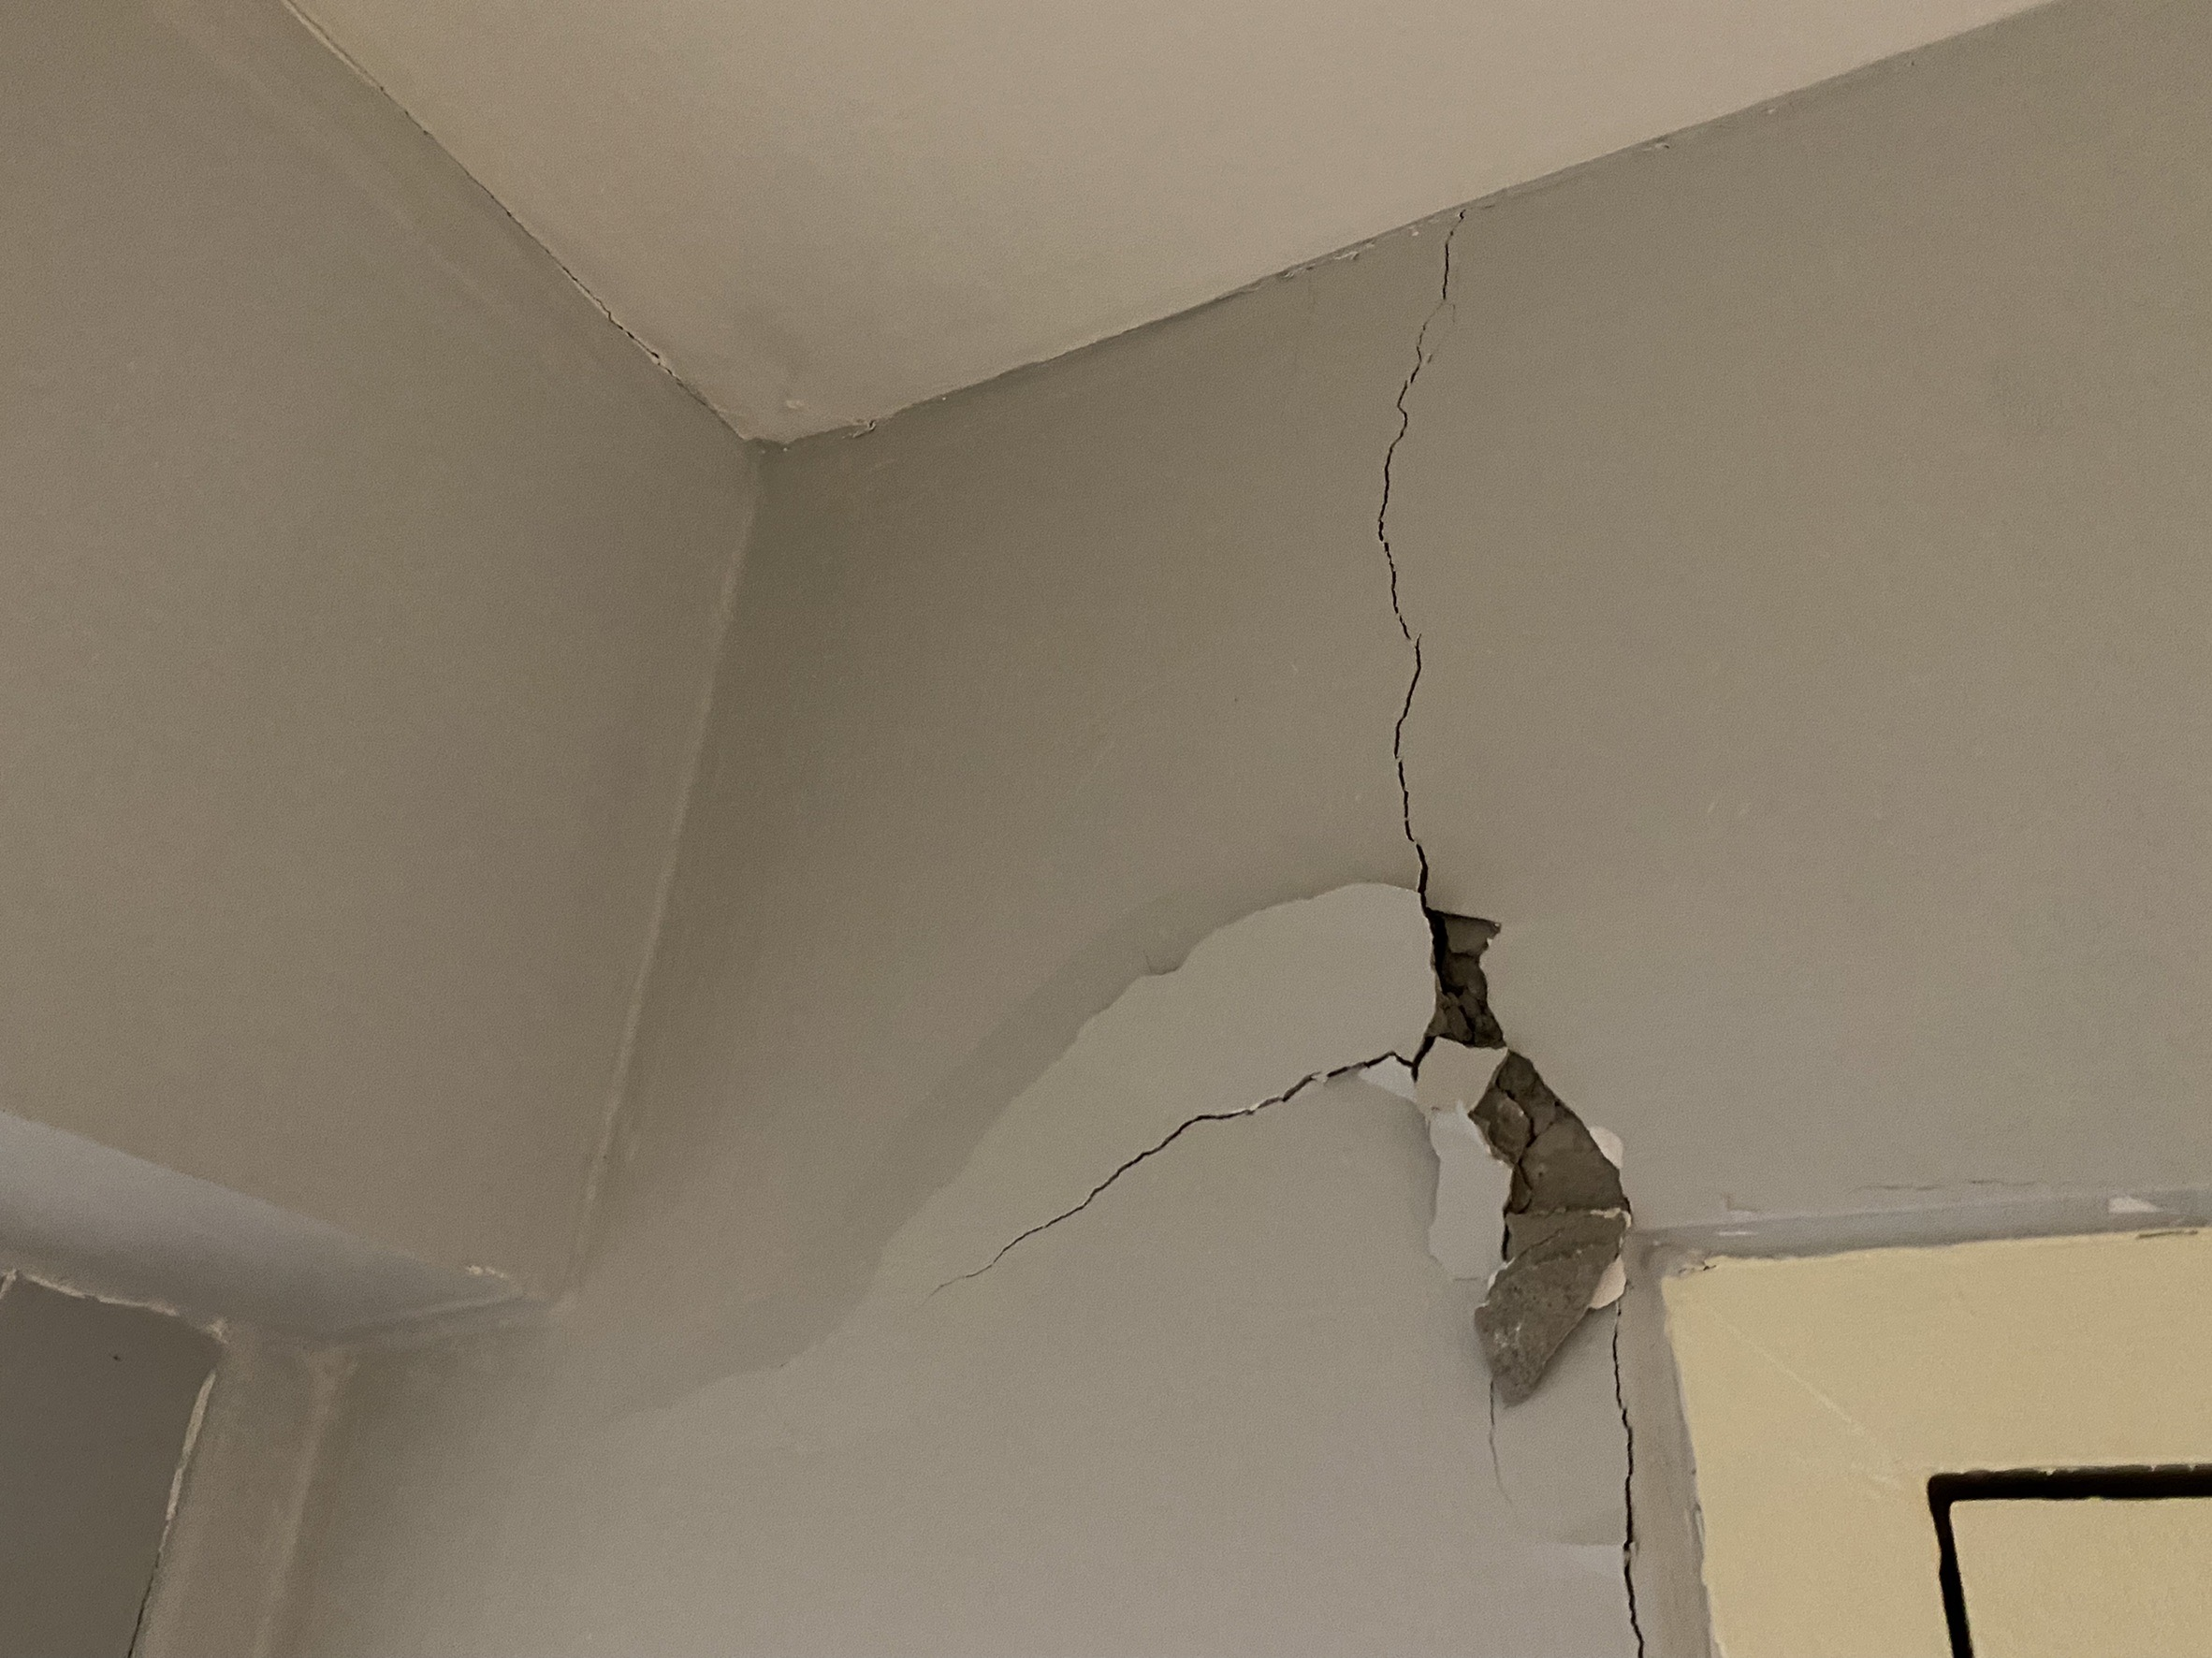Medium: (1176, 343, 1670, 1071)
